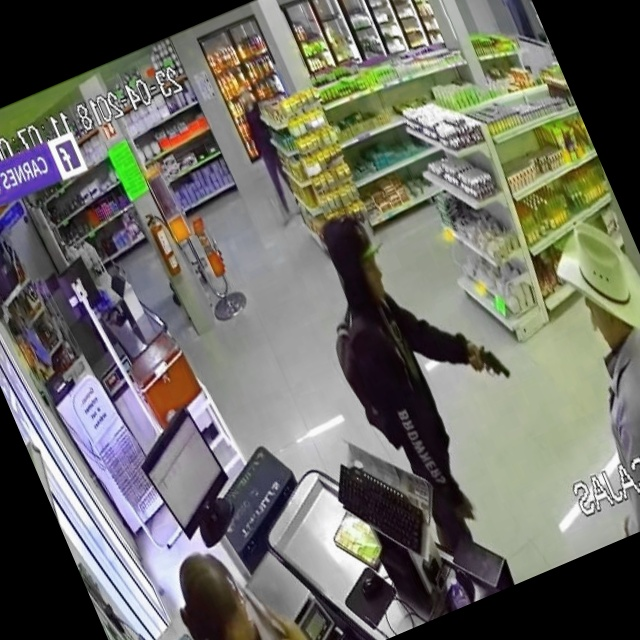gun: (463, 321, 524, 405)
